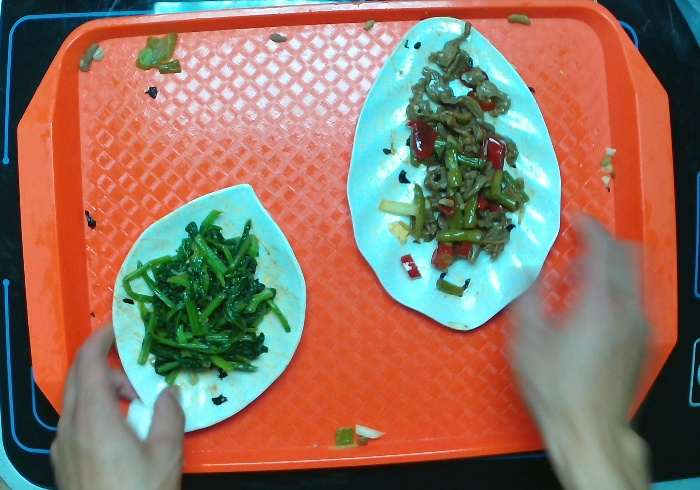RJxy-Bai_Ye_Pan: (340, 15, 558, 334)
RJxy-Da_Du_Pan: (107, 184, 309, 438)
